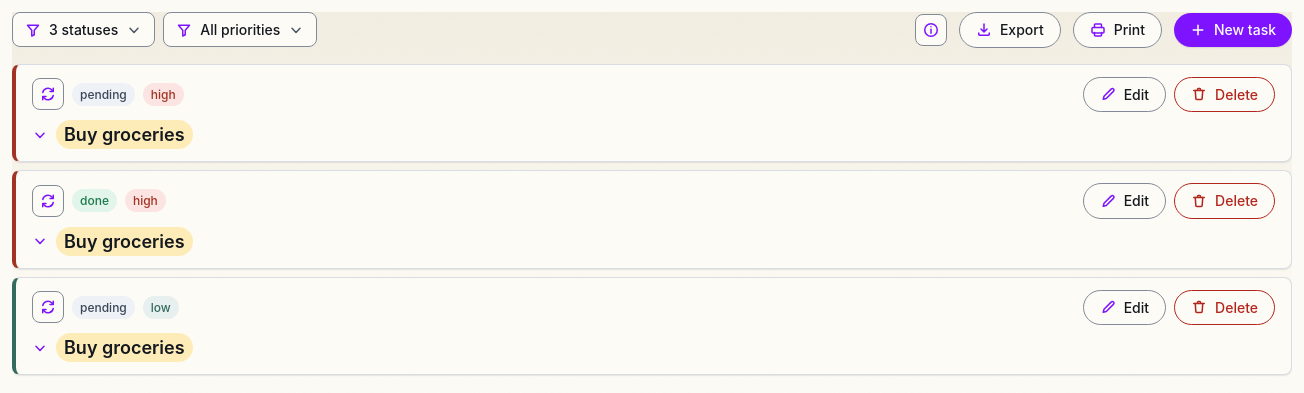
TaskList › the counts panel breaks the loaded tasks down by status and priority
This screenshot has width=1304, height=393.
Click the button named "Task counts".
click(931, 30)  # box [915,14,947,46]
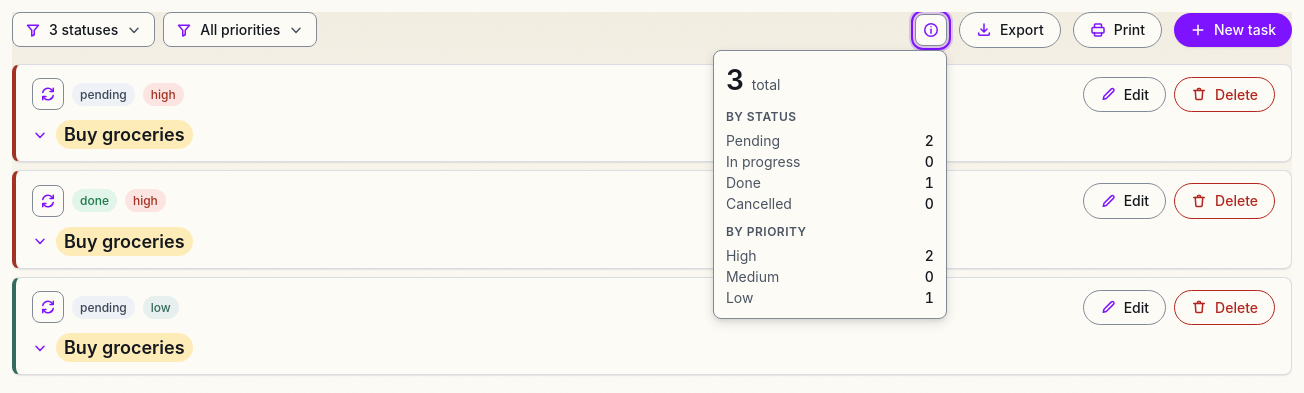
Now the text "2" below "By status" is shown, box [925,132,934,149]
Now the text "1" below "In progress" is shown, box [925,174,934,191]
Now the text "0" next to "Cancelled" is shown, box [925,195,934,212]
